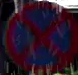No waiting: (4, 0, 76, 74)
